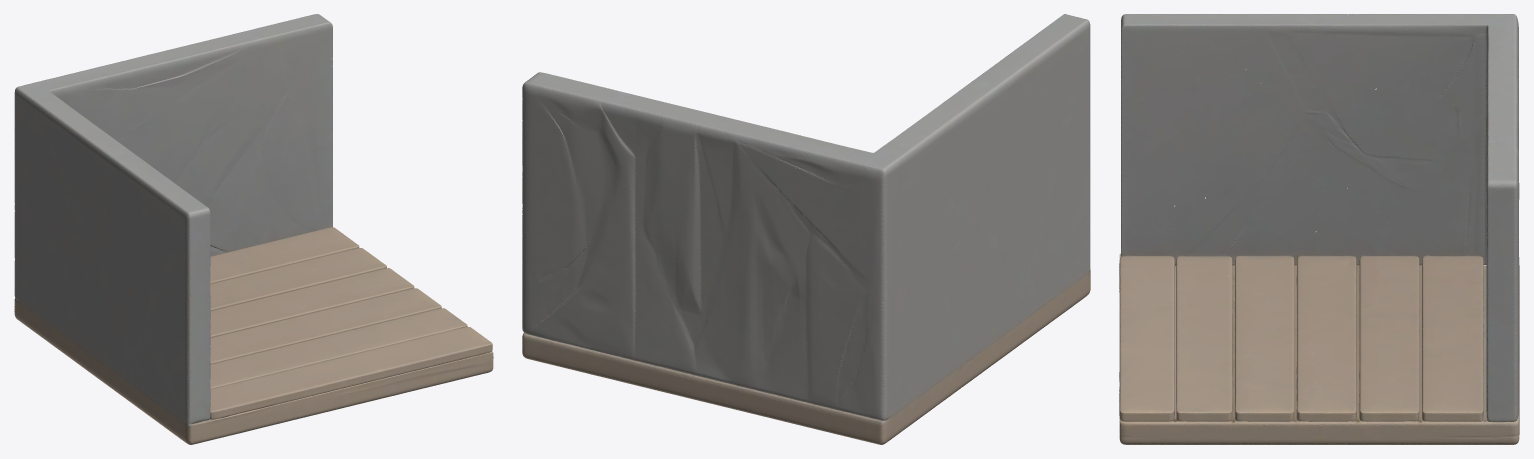
The model's file is room_opt.glb.
3 renders of one model, left to right at view 1: azimuth 30°, elevation 25°; view 2: azimuth 150°, elevation 25°; view 3: azimuth 270°, elevation 25°, orthographic. The views are drawn at different scales.
Visible parts, largest first — view 1: tripo_node_844981e9-e296-44c4-9664-32a7711bfcd6; view 2: tripo_node_844981e9-e296-44c4-9664-32a7711bfcd6; view 3: tripo_node_844981e9-e296-44c4-9664-32a7711bfcd6.
Part boxes in pixels (bbox=[...]): tripo_node_844981e9-e296-44c4-9664-32a7711bfcd6: bbox=[14, 14, 493, 444]; tripo_node_844981e9-e296-44c4-9664-32a7711bfcd6: bbox=[522, 14, 1090, 444]; tripo_node_844981e9-e296-44c4-9664-32a7711bfcd6: bbox=[1119, 14, 1519, 444].
Bounding box in the file's own units: 1 × 0.7269 × 0.9955.
Materials: 1 (1 with a texture image).
